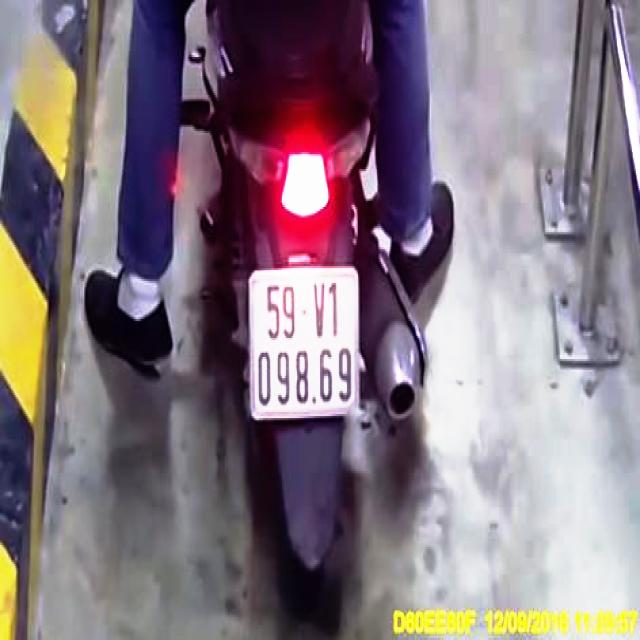license_plate: (252, 271, 357, 418)
